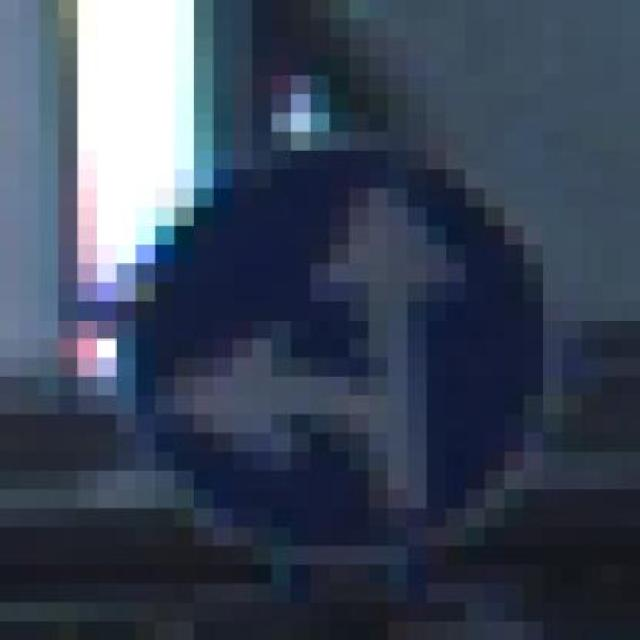Go straight or turn left: (116, 113, 582, 622)
